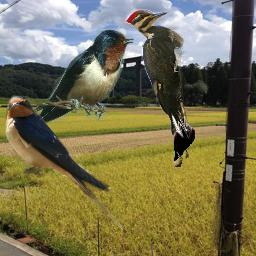Crow: (173, 120, 195, 167)
Swallow: (4, 95, 125, 231), (14, 29, 134, 124)
Woodpecker: (125, 9, 191, 140)
